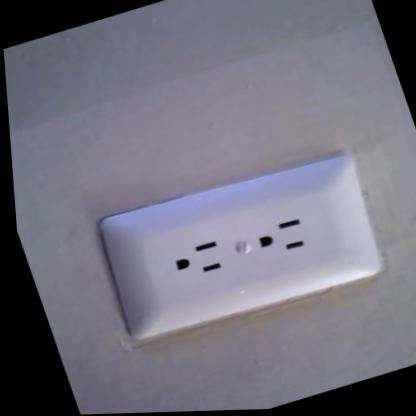OUTLET: (83, 143, 392, 350)
